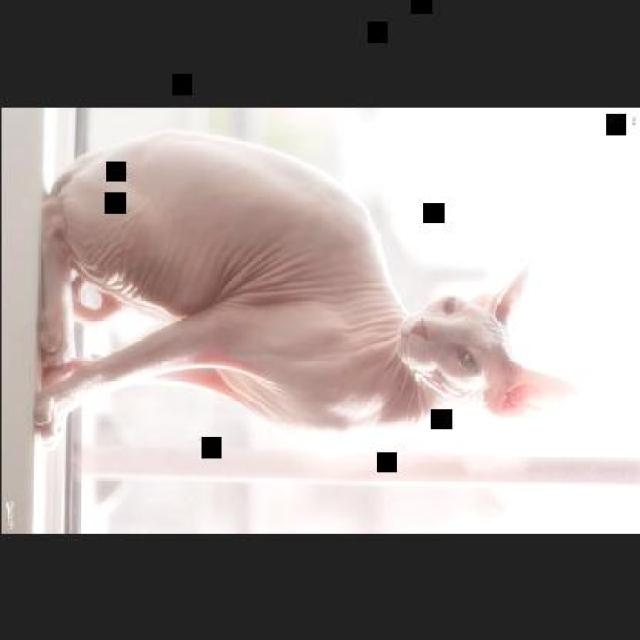unauthorized: (32, 128, 574, 437)
